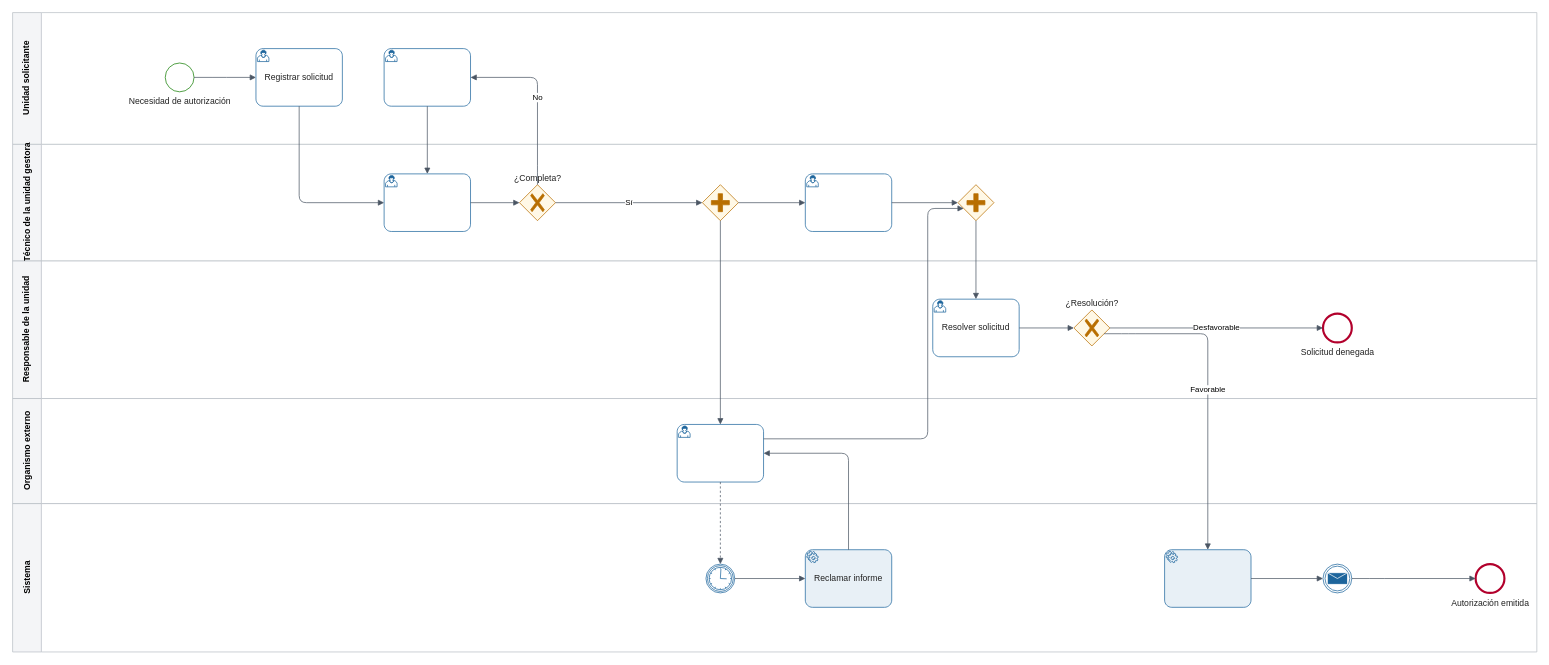
Image size: 1549x665. Some labels were removed from this diagram. The centre of each missing label's shape, as x and y in pixels:
10 días sin respuesta: the point at 720,578
Aviso a la unidad solicitante: the point at 1337,578
Elaborar informe técnico: the point at 848,202
Emitir informe preceptivo: the point at 720,453
Generar autorización: the point at 1207,578
Revisar documentación: the point at 427,202
Subsanar documentación: the point at 427,77
